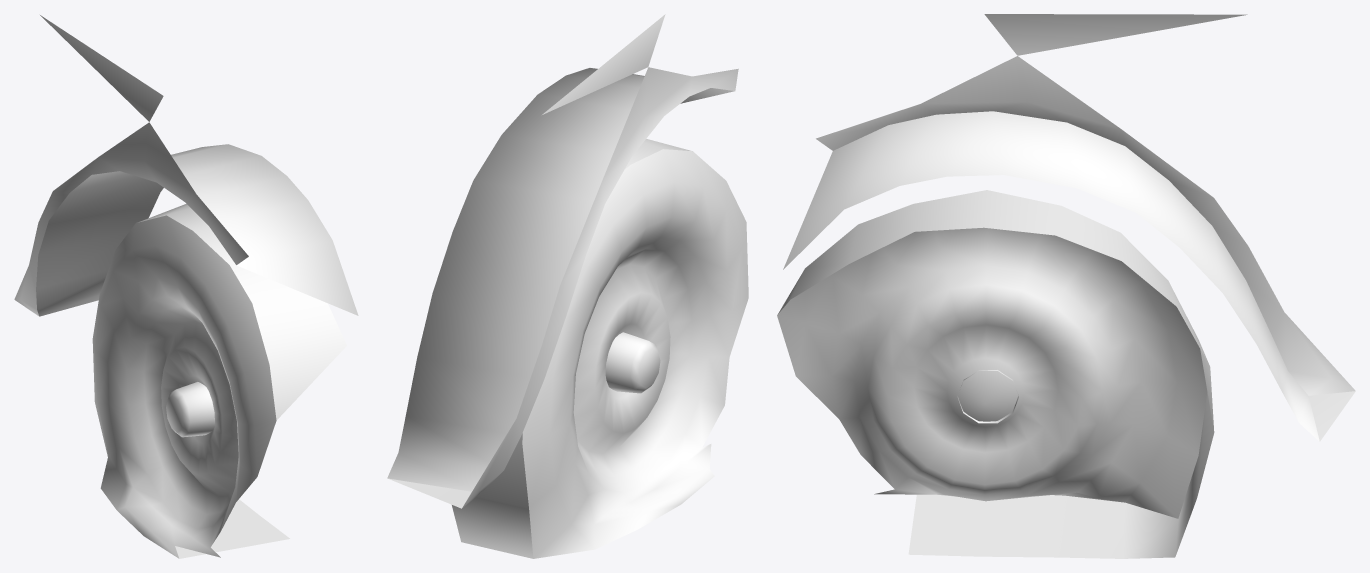
The picture shows the model from 3 angles, left to right: view 1: azimuth 30°, elevation 25°; view 2: azimuth 150°, elevation 25°; view 3: azimuth 270°, elevation 25°; orthographic projection. The views are drawn at different scales.
Size of the model in its own units: 0.2175 by 0.7401 by 0.7897.
Materials: 1 (1 with a texture image).
